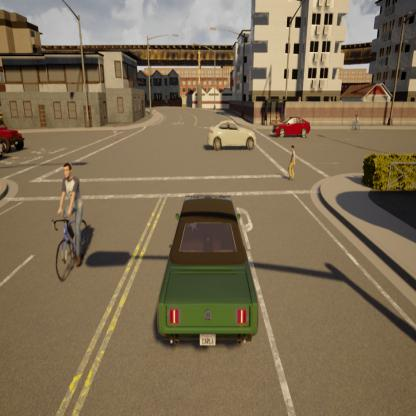Cars: (156, 192, 260, 353), (52, 157, 90, 286), (208, 122, 258, 152), (272, 114, 312, 141), (0, 112, 25, 154), (350, 107, 362, 136)
Pedestrian: (289, 143, 298, 183)
